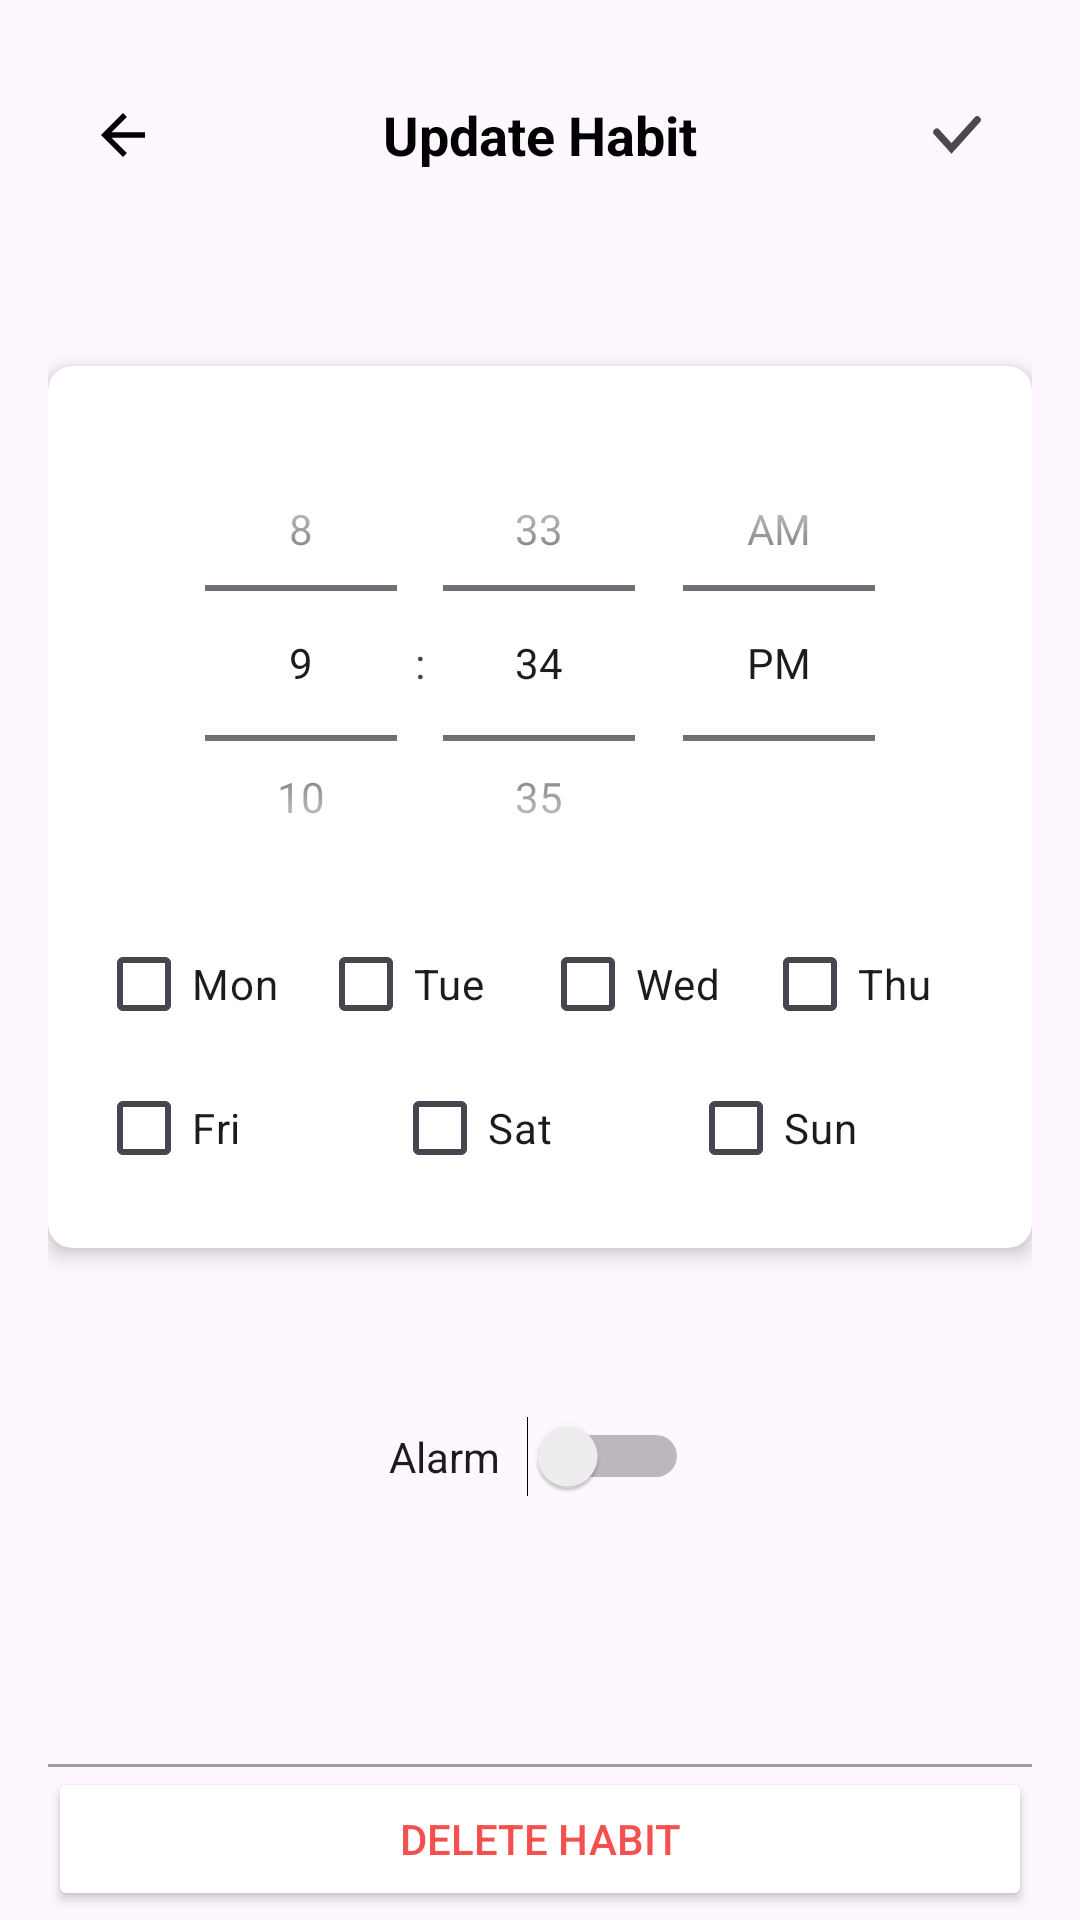

Icons on this 1080w x 1920h Android screen, each with the point to tap as point (x, y):
back: point (123, 135)
confirm tick: point (957, 135)
